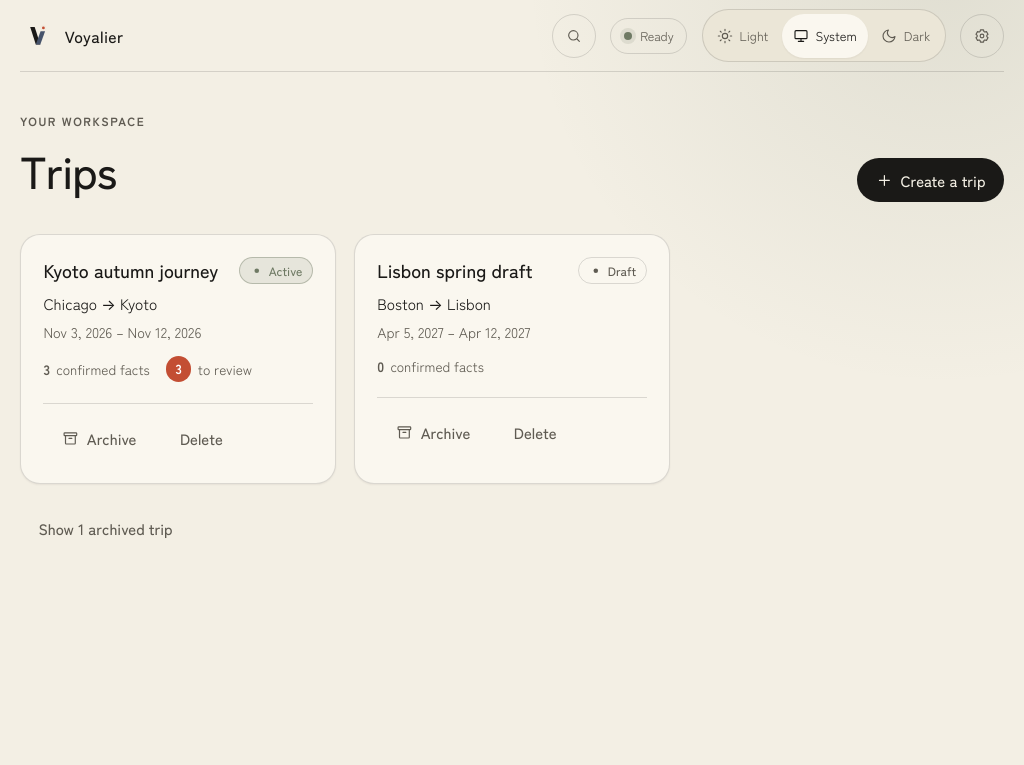
it: concierge save recovery › preserves a newer Wallet label draft after an earlier save succeeds
Click the button with aria-label "Open Kyoto autumn journey": (131, 270) 43,257 -> 218,283
(page scrolled)
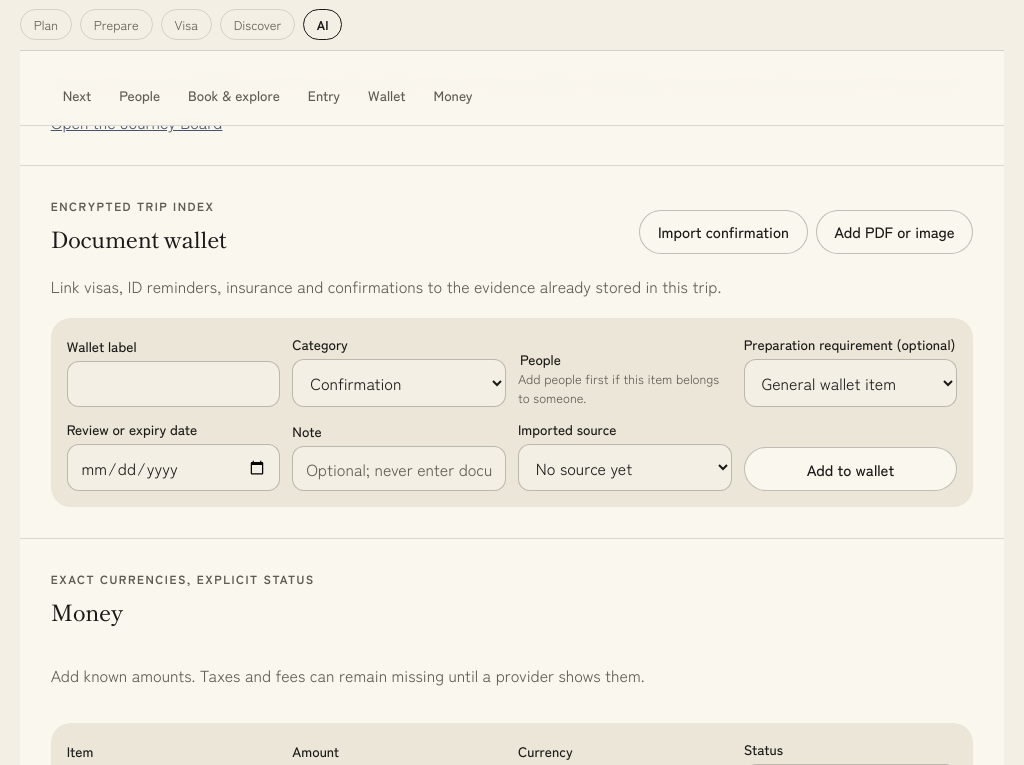
In the field labelled "Wallet label": (174, 384) 67,361 -> 280,407, type "First estimate"
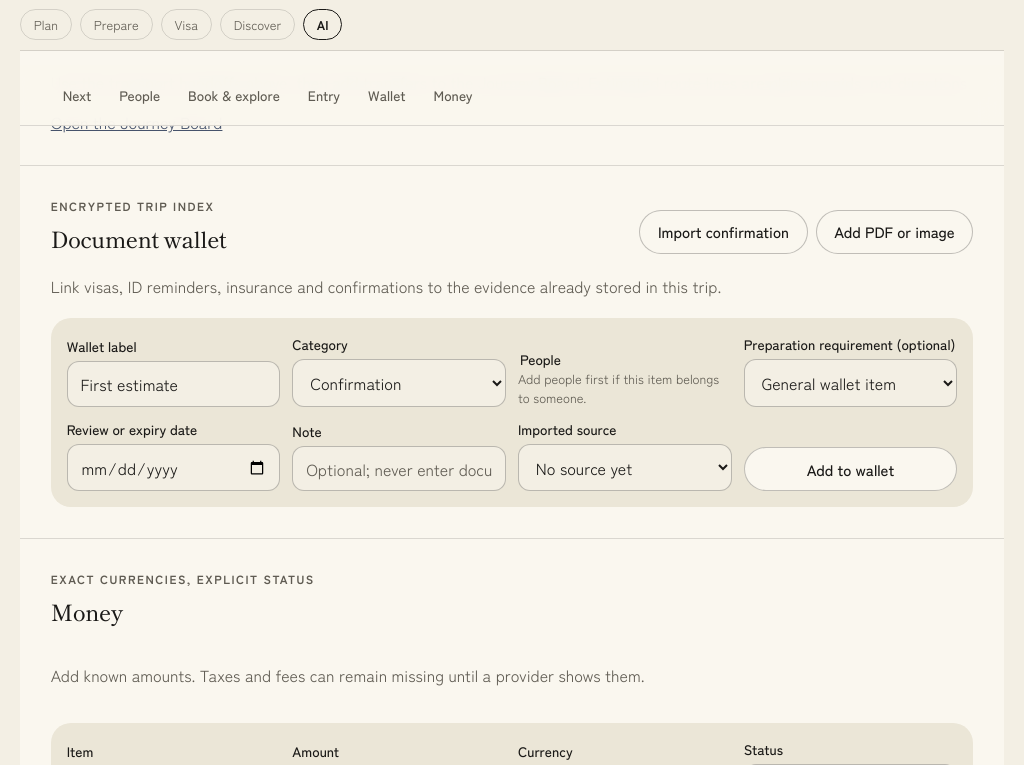
Submit the form "Wallet label", box 51,318 -> 973,507
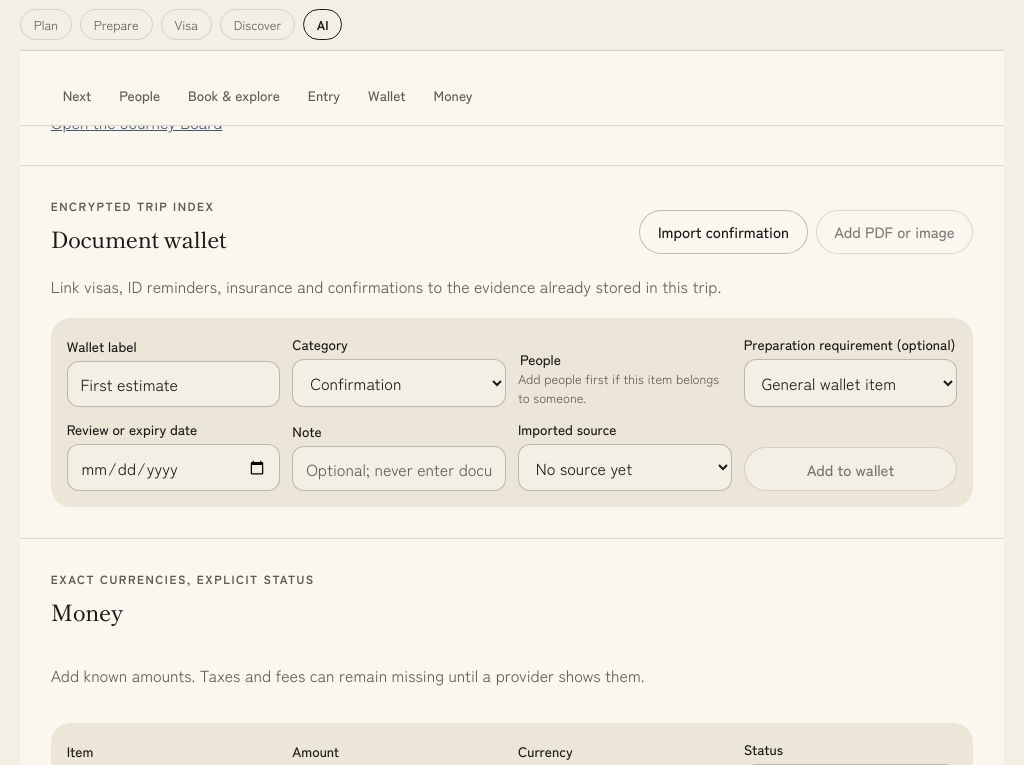
Replace the text in the field labelled "Wallet label" with "Next estimate": (174, 384) 67,361 -> 280,407
(page scrolled)
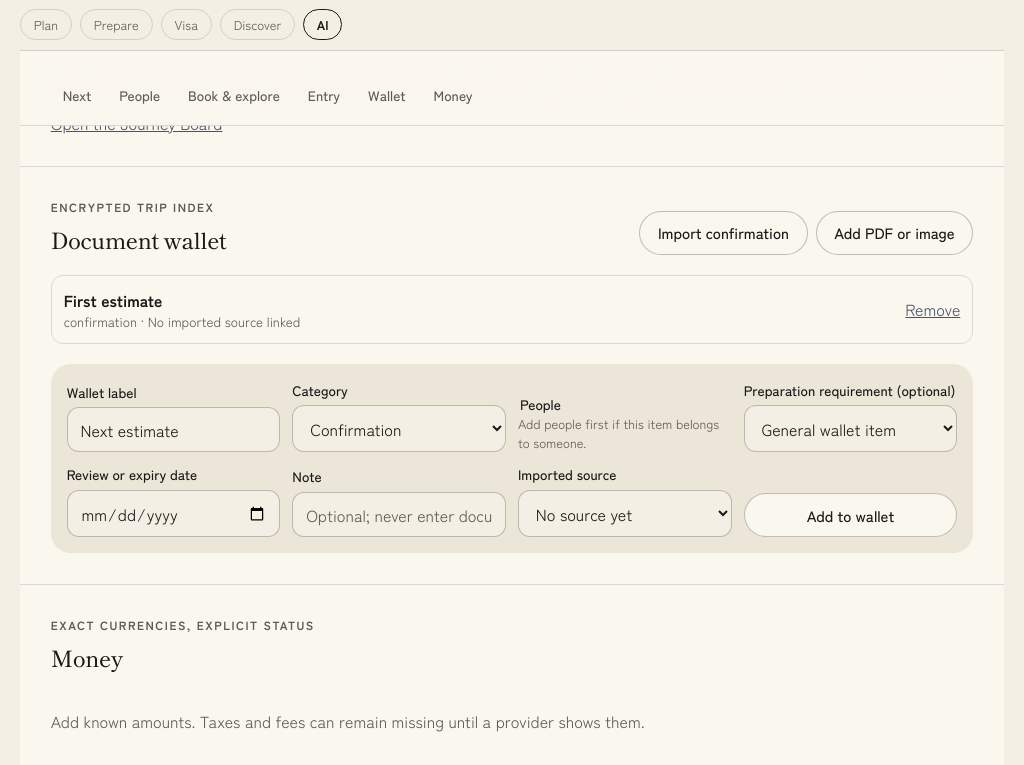
Now the text "First estimate" is shown, box 64,288 -> 162,312
